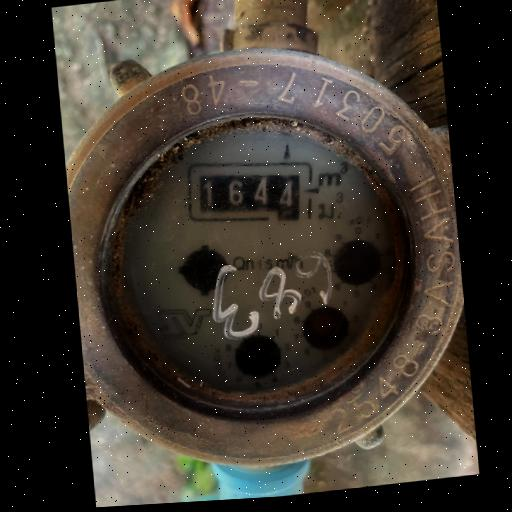1: (197, 174, 225, 213)
4: (245, 171, 281, 214), (273, 172, 303, 222)
6: (218, 173, 252, 215)
border_water_meter_number: (181, 149, 317, 235)
